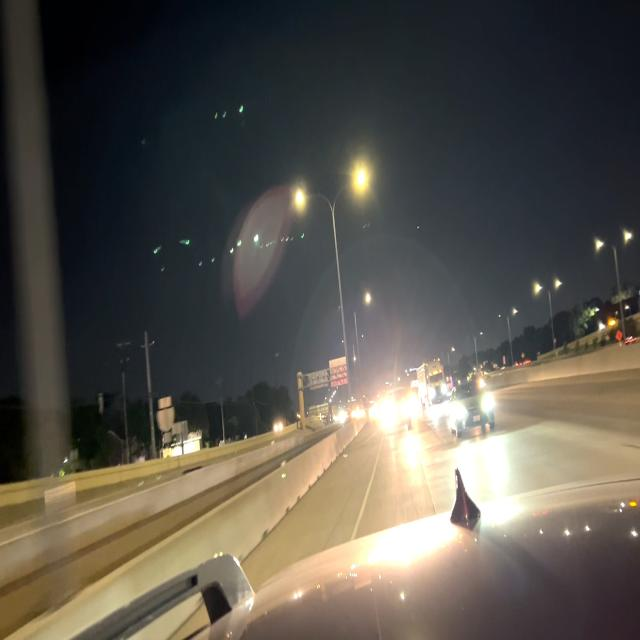back-of-sign: (307, 357, 347, 393), (156, 393, 175, 436)
